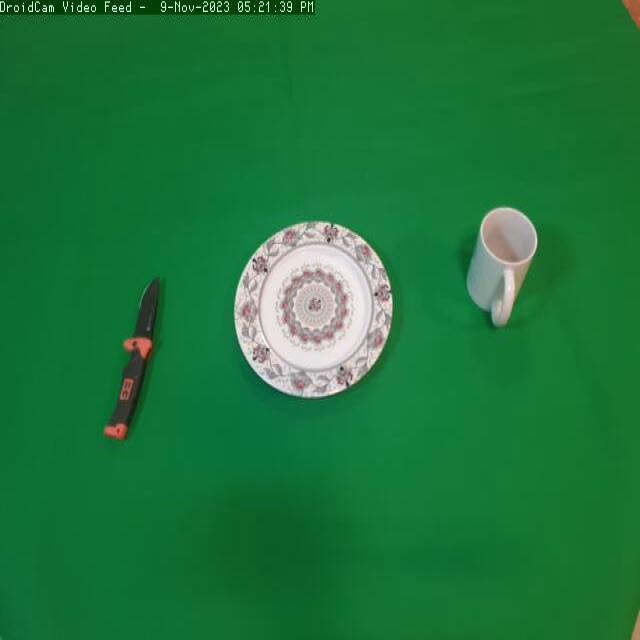cup: (451, 196, 544, 350)
knife: (105, 256, 173, 469)
plate: (220, 206, 406, 431)
